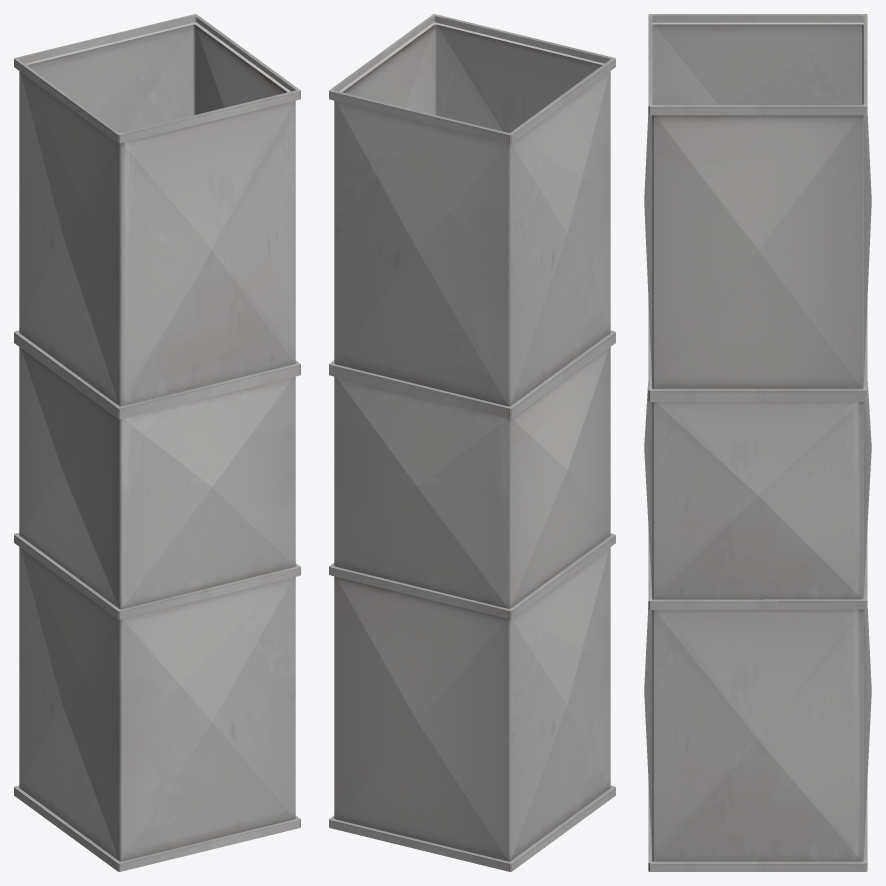
The model's file is props_spytech_vent_system_straight_128_small.glb.
3 views of the same model, side by side, from view 1: azimuth 30°, elevation 25°; view 2: azimuth 150°, elevation 25°; view 3: azimuth 270°, elevation 25° (orthographic). The views are drawn at different scales.
Parts seen in each view (by area): view 1: models/props_spytech/vent_system_straight_128_small; view 2: models/props_spytech/vent_system_straight_128_small; view 3: models/props_spytech/vent_system_straight_128_small.
Part boxes in pixels (bbox=[...]): models/props_spytech/vent_system_straight_128_small: bbox=[14, 14, 300, 871]; models/props_spytech/vent_system_straight_128_small: bbox=[329, 14, 615, 871]; models/props_spytech/vent_system_straight_128_small: bbox=[644, 14, 871, 871].
Bounding box in the file's own units: 34.54 × 128 × 34.5.
1 material, 1 textured.
